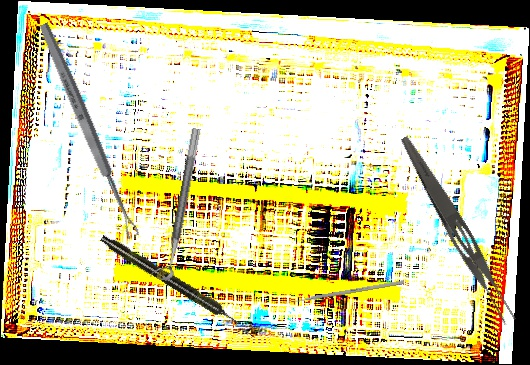Dressing Forceps: (391, 133, 522, 328)
Fixation Ring: (149, 125, 202, 282)
Handpiece: (98, 231, 242, 330)
Pusher: (279, 280, 405, 306)
Surgical Spoon: (36, 21, 141, 240)
